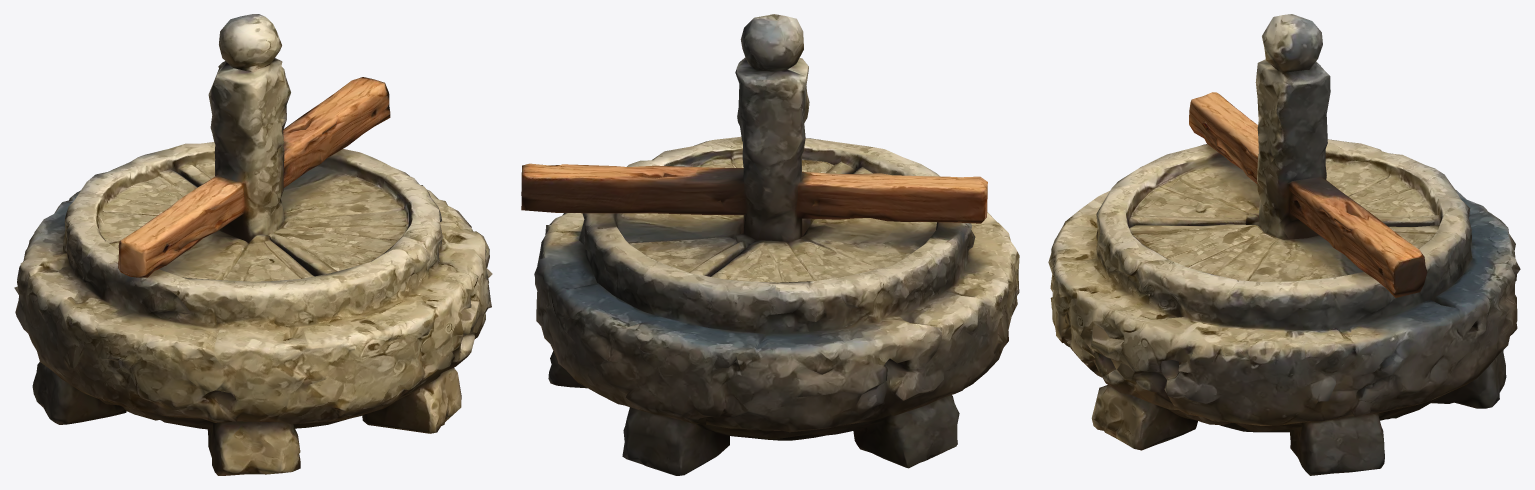
File: press.glb
3 views of the same model, side by side, from view 1: azimuth 30°, elevation 25°; view 2: azimuth 150°, elevation 25°; view 3: azimuth 270°, elevation 25° (orthographic). The views are drawn at different scales.
Visible parts, largest first — view 1: tripo_node_62fb9bf4-8f6a-41f1-84e4-6ea0d597b045; view 2: tripo_node_62fb9bf4-8f6a-41f1-84e4-6ea0d597b045; view 3: tripo_node_62fb9bf4-8f6a-41f1-84e4-6ea0d597b045.
Part boxes in pixels (x1,y1,x2,y2): tripo_node_62fb9bf4-8f6a-41f1-84e4-6ea0d597b045: (14, 14, 492, 475); tripo_node_62fb9bf4-8f6a-41f1-84e4-6ea0d597b045: (521, 14, 1019, 475); tripo_node_62fb9bf4-8f6a-41f1-84e4-6ea0d597b045: (1048, 14, 1520, 475).
Bounding box in the file's own units: 1 × 0.8558 × 0.9998.
1 material, 1 textured.
